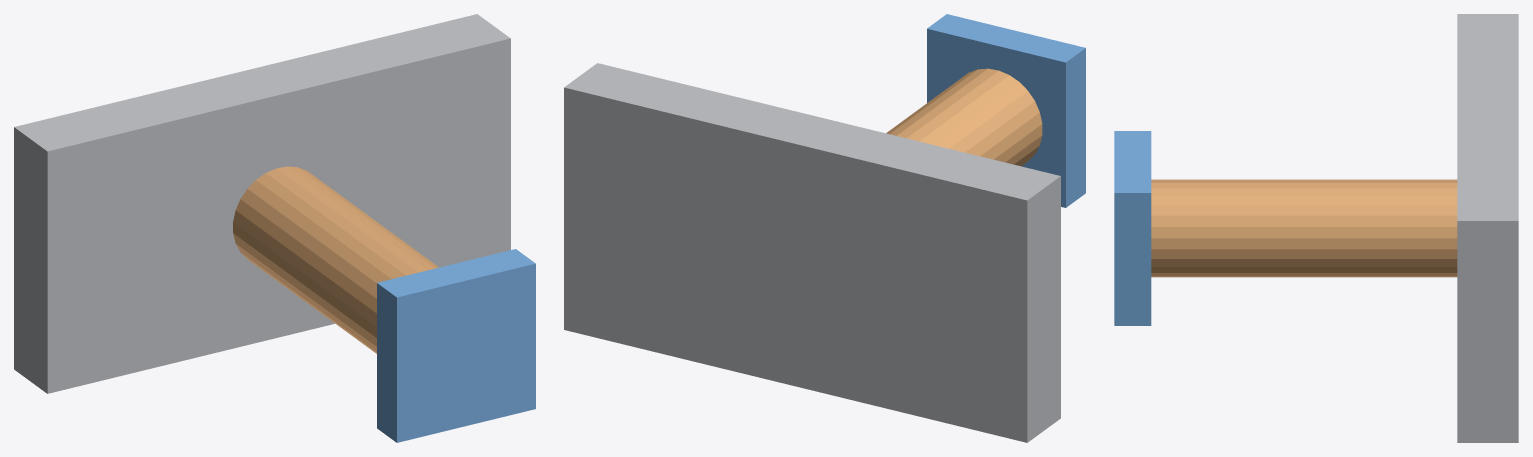
The model's file is assembly.glb.
The picture shows the model from 3 angles, left to right: view 1: azimuth 30°, elevation 25°; view 2: azimuth 150°, elevation 25°; view 3: azimuth 270°, elevation 25°; orthographic projection. The views are drawn at different scales.
Parts seen in each view (by area): view 1: n1_1, n1_3, n1_2; view 2: n1_1, n1_3, n1_2; view 3: n1_2, n1_1, n1_3.
Part boxes in pixels (box(x1,y1,x2,y2)): n1_1: box(14, 14, 510, 393); n1_3: box(377, 249, 535, 442); n1_2: box(233, 166, 438, 353); n1_1: box(564, 63, 1060, 442); n1_3: box(927, 14, 1085, 207); n1_2: box(886, 68, 1042, 166); n1_2: box(1151, 179, 1457, 277); n1_1: box(1457, 14, 1518, 442); n1_3: box(1114, 131, 1151, 325).
Size of the model in its own units: 40 by 20 by 33.
